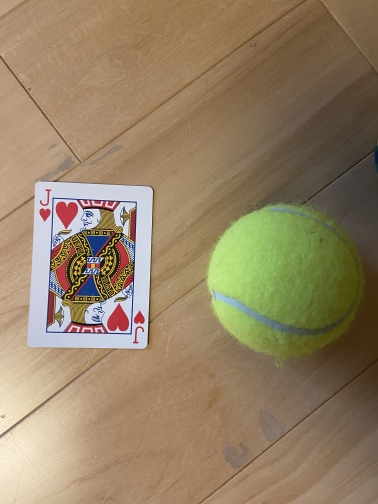jack: (26, 181, 155, 350)
